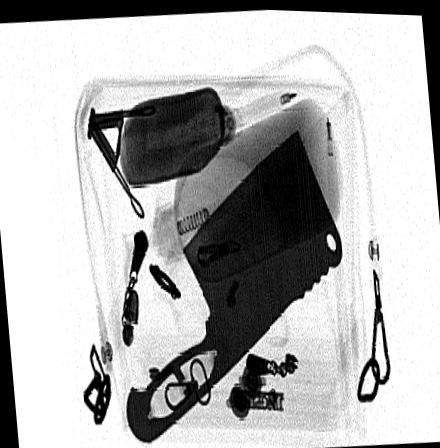Knife: (124, 122, 343, 444)
